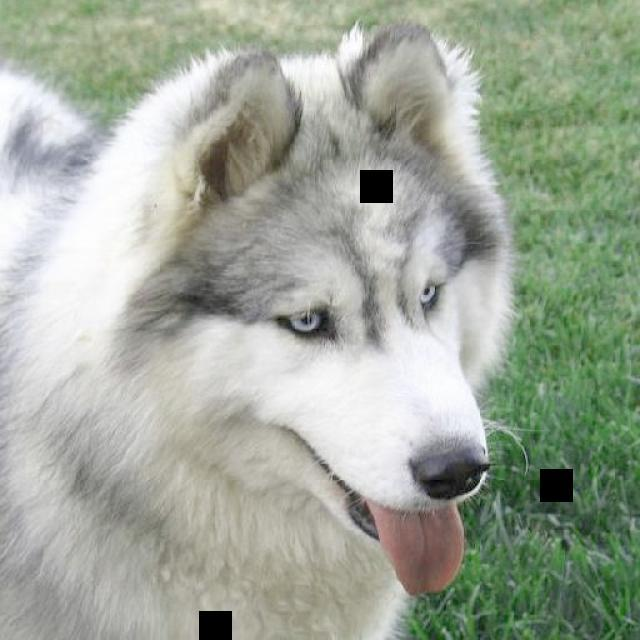adult_dog: (1, 17, 519, 640)
